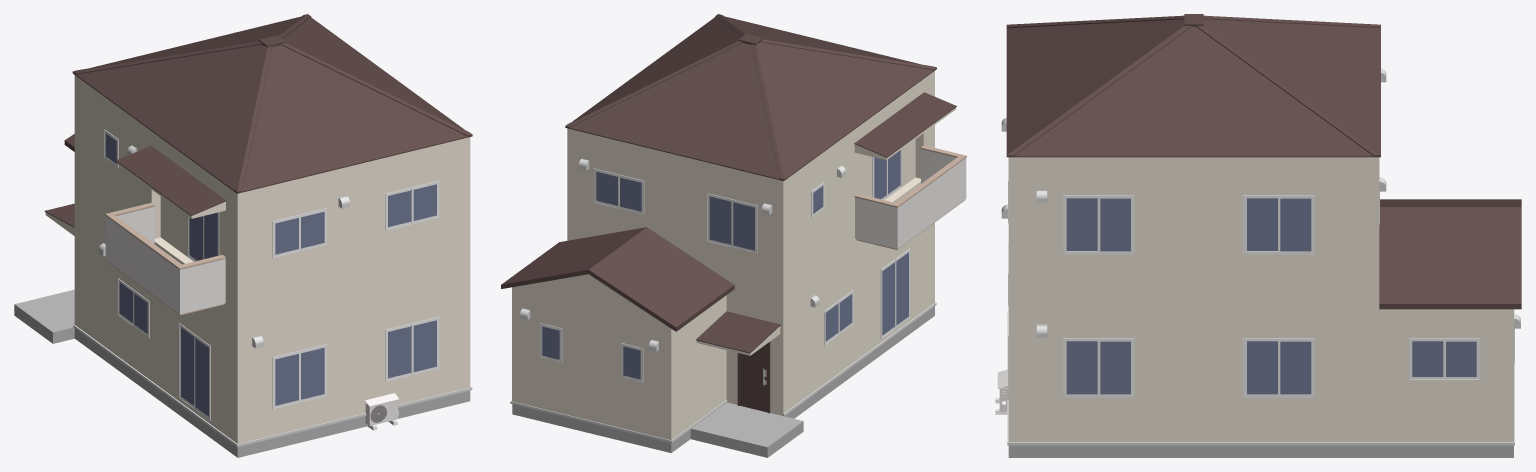
File: MobHouse66.fbx
3 renders of one model, left to right at view 1: azimuth 30°, elevation 25°; view 2: azimuth 150°, elevation 25°; view 3: azimuth 270°, elevation 25°, orthographic. The views are drawn at different scales.
Parts seen in each view (by area): view 1: Flat_half_house02.025; view 2: Flat_half_house02.025; view 3: Flat_half_house02.025.
Boxes of the visible parts, bbox=[...] form: Flat_half_house02.025: bbox=[14, 14, 472, 457]; Flat_half_house02.025: bbox=[501, 14, 966, 457]; Flat_half_house02.025: bbox=[995, 14, 1521, 457].
Bounding box in the file's own units: 6.86 × 7.52 × 9.59.
